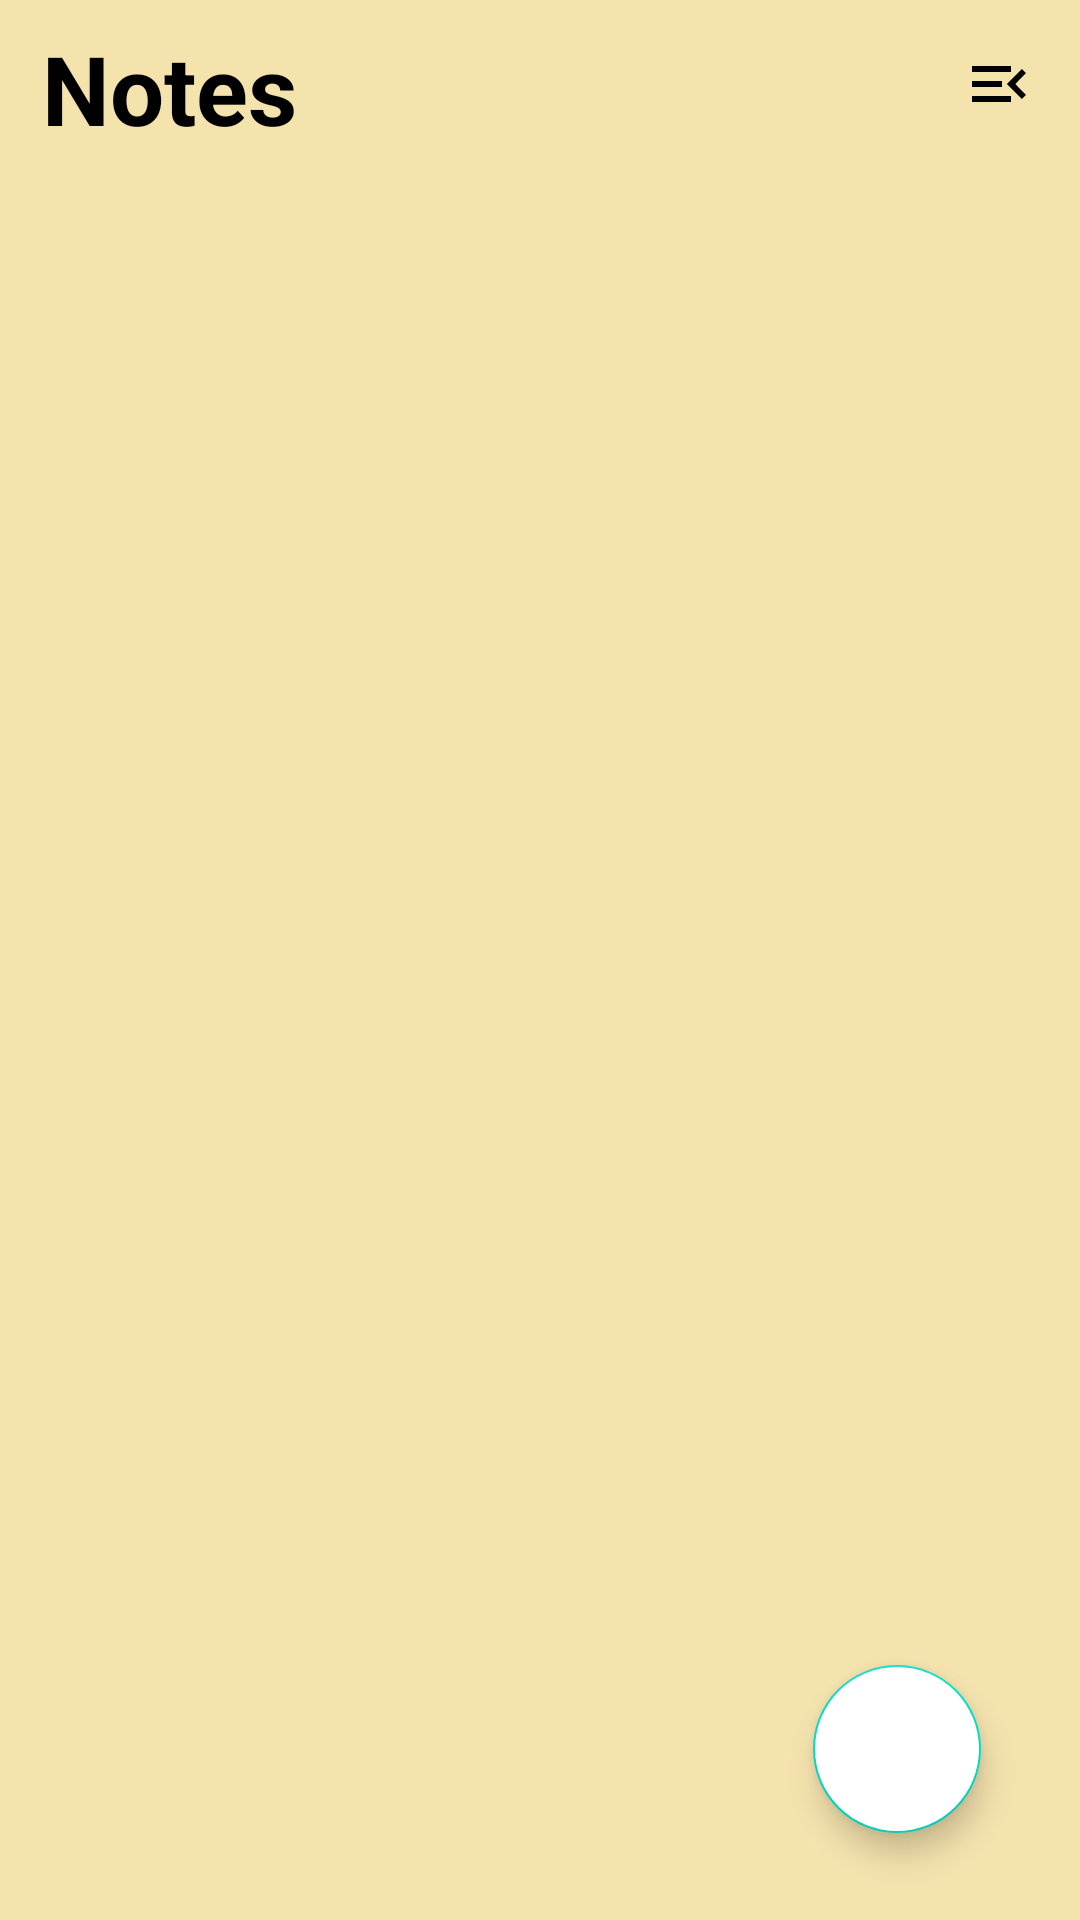

Icons on this 1080 × 1920 Android screen, each with the point to tap as [x,y]:
open: [999,84]
